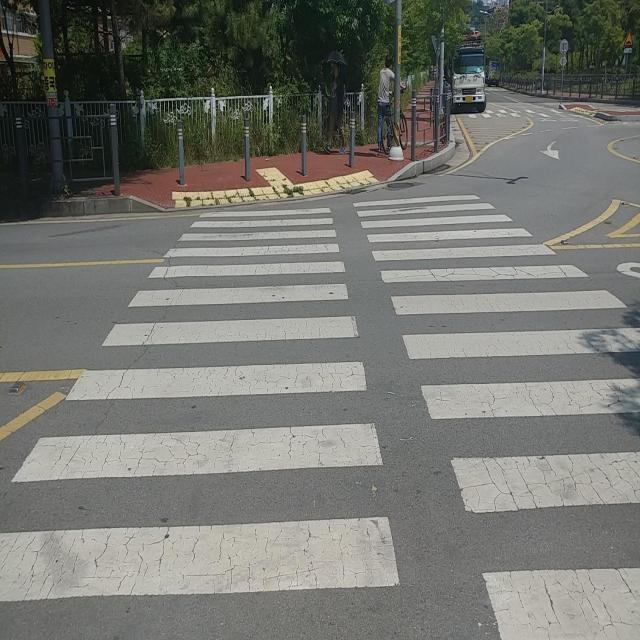횡단보도: (0, 195, 640, 639), (462, 104, 572, 122)
